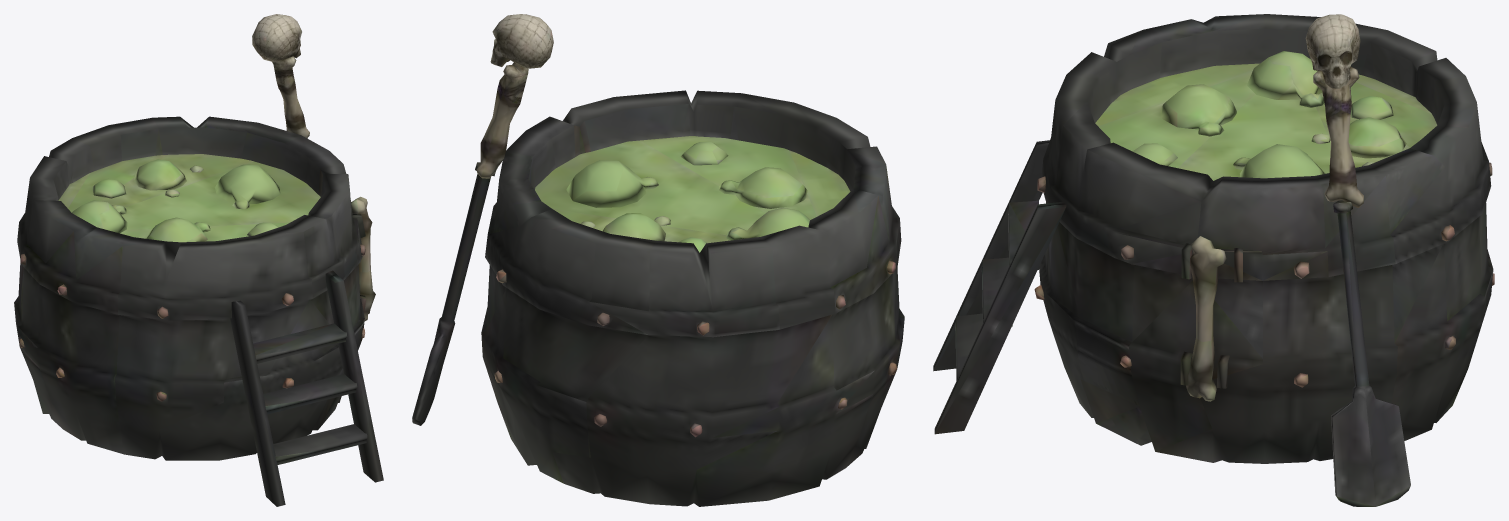
The model's file is alch_bubbling_vat.glb.
3 views of the same model, side by side, from view 1: azimuth 30°, elevation 25°; view 2: azimuth 150°, elevation 25°; view 3: azimuth 270°, elevation 25° (orthographic). The views are drawn at different scales.
Parts seen in each view (by area): view 1: tripo_node_a97f3a0b-b660-44a0-94ab-be268fa8ca7a; view 2: tripo_node_a97f3a0b-b660-44a0-94ab-be268fa8ca7a; view 3: tripo_node_a97f3a0b-b660-44a0-94ab-be268fa8ca7a.
Boxes of the visible parts, x1,y1,x2,y2 form: tripo_node_a97f3a0b-b660-44a0-94ab-be268fa8ca7a: (14, 14, 383, 506); tripo_node_a97f3a0b-b660-44a0-94ab-be268fa8ca7a: (412, 14, 904, 506); tripo_node_a97f3a0b-b660-44a0-94ab-be268fa8ca7a: (933, 14, 1494, 506).
Size of the model in its own units: 0.9238 by 0.8769 by 0.998.
1 material, 1 textured.
